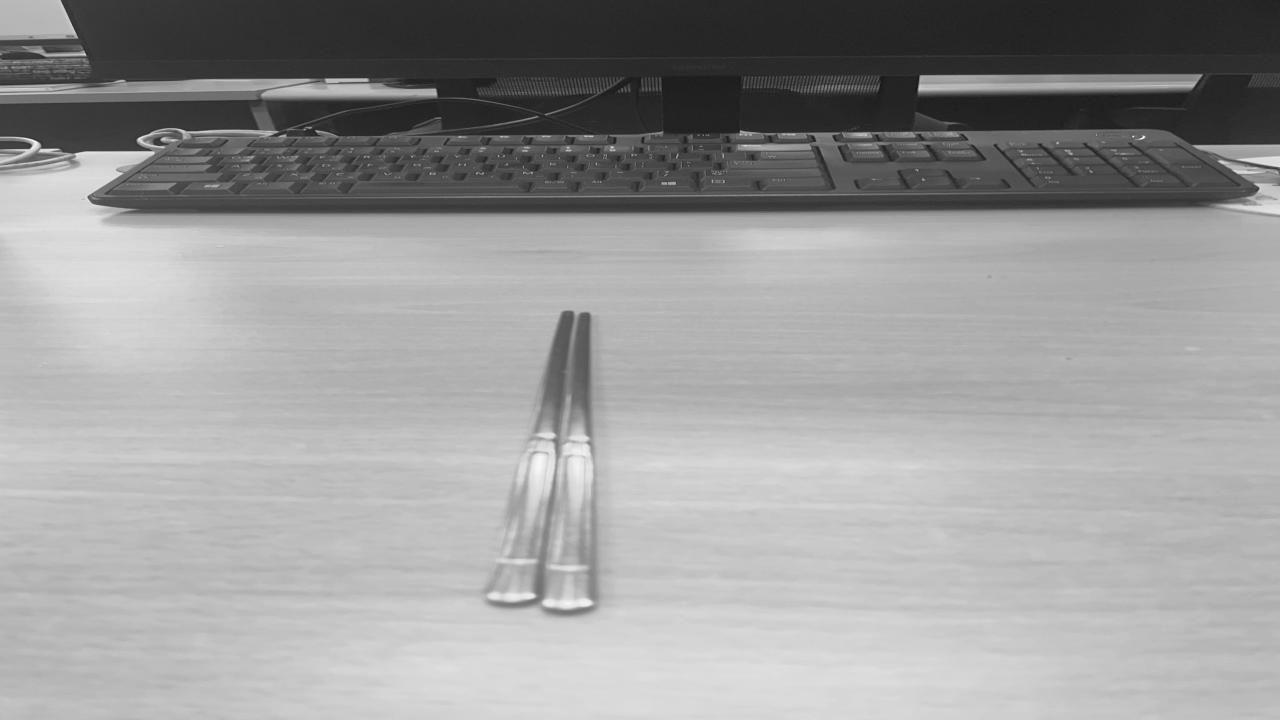chopstick: (482, 312, 592, 610)
